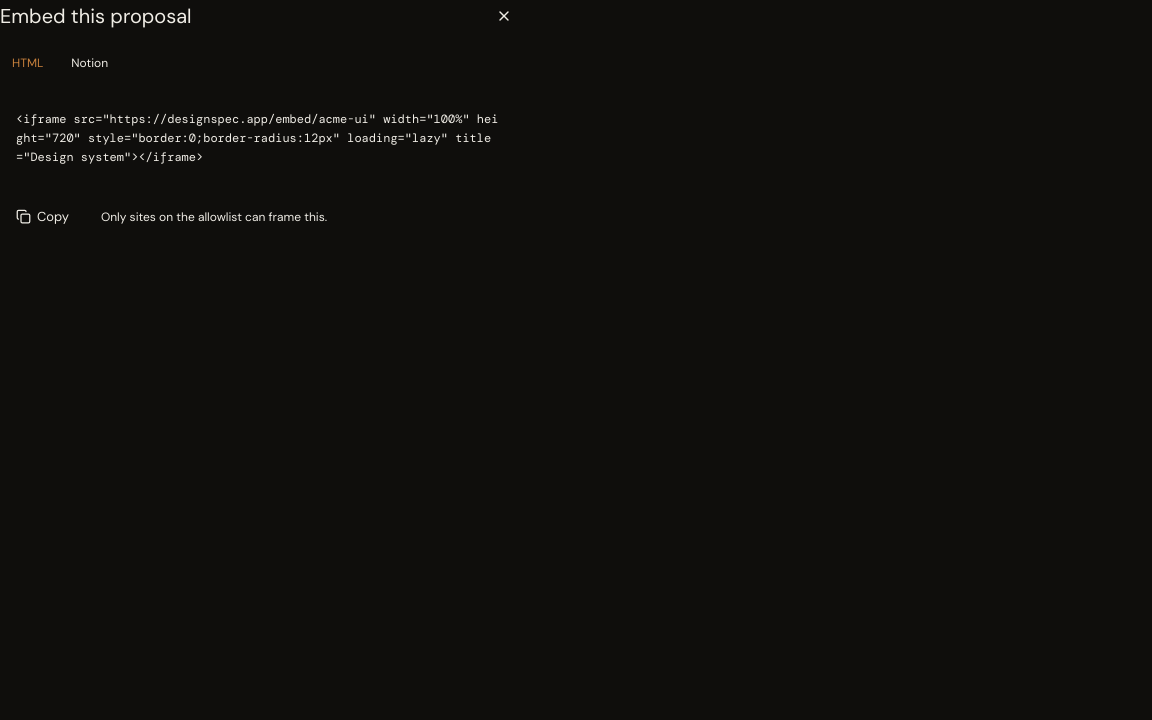
it: EmbedCodeModal › offers an iframe tag for a web page and a bare URL for Notion
Click the tab with class "ecm__tab" showing "Notion" at x=90, y=63, box [59,48,120,78]
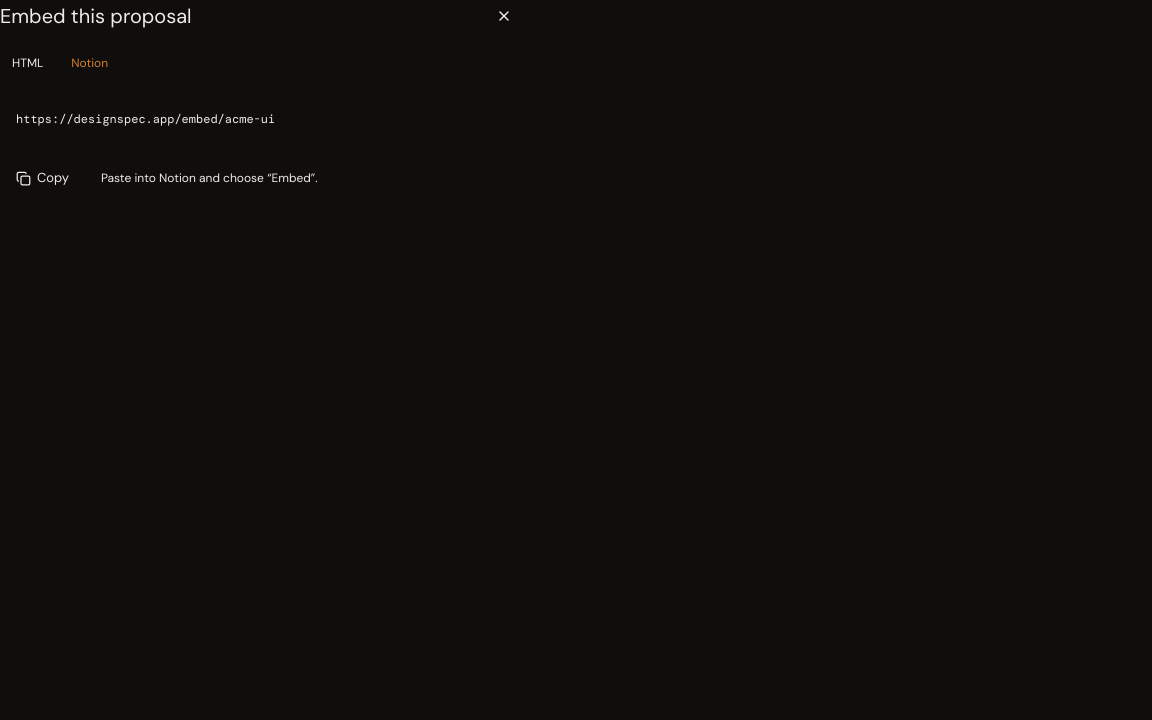
Check: the text with test id "embed-snippet" reads "https://designspec.app/embed/acme-ui", box [16,111,275,127]
